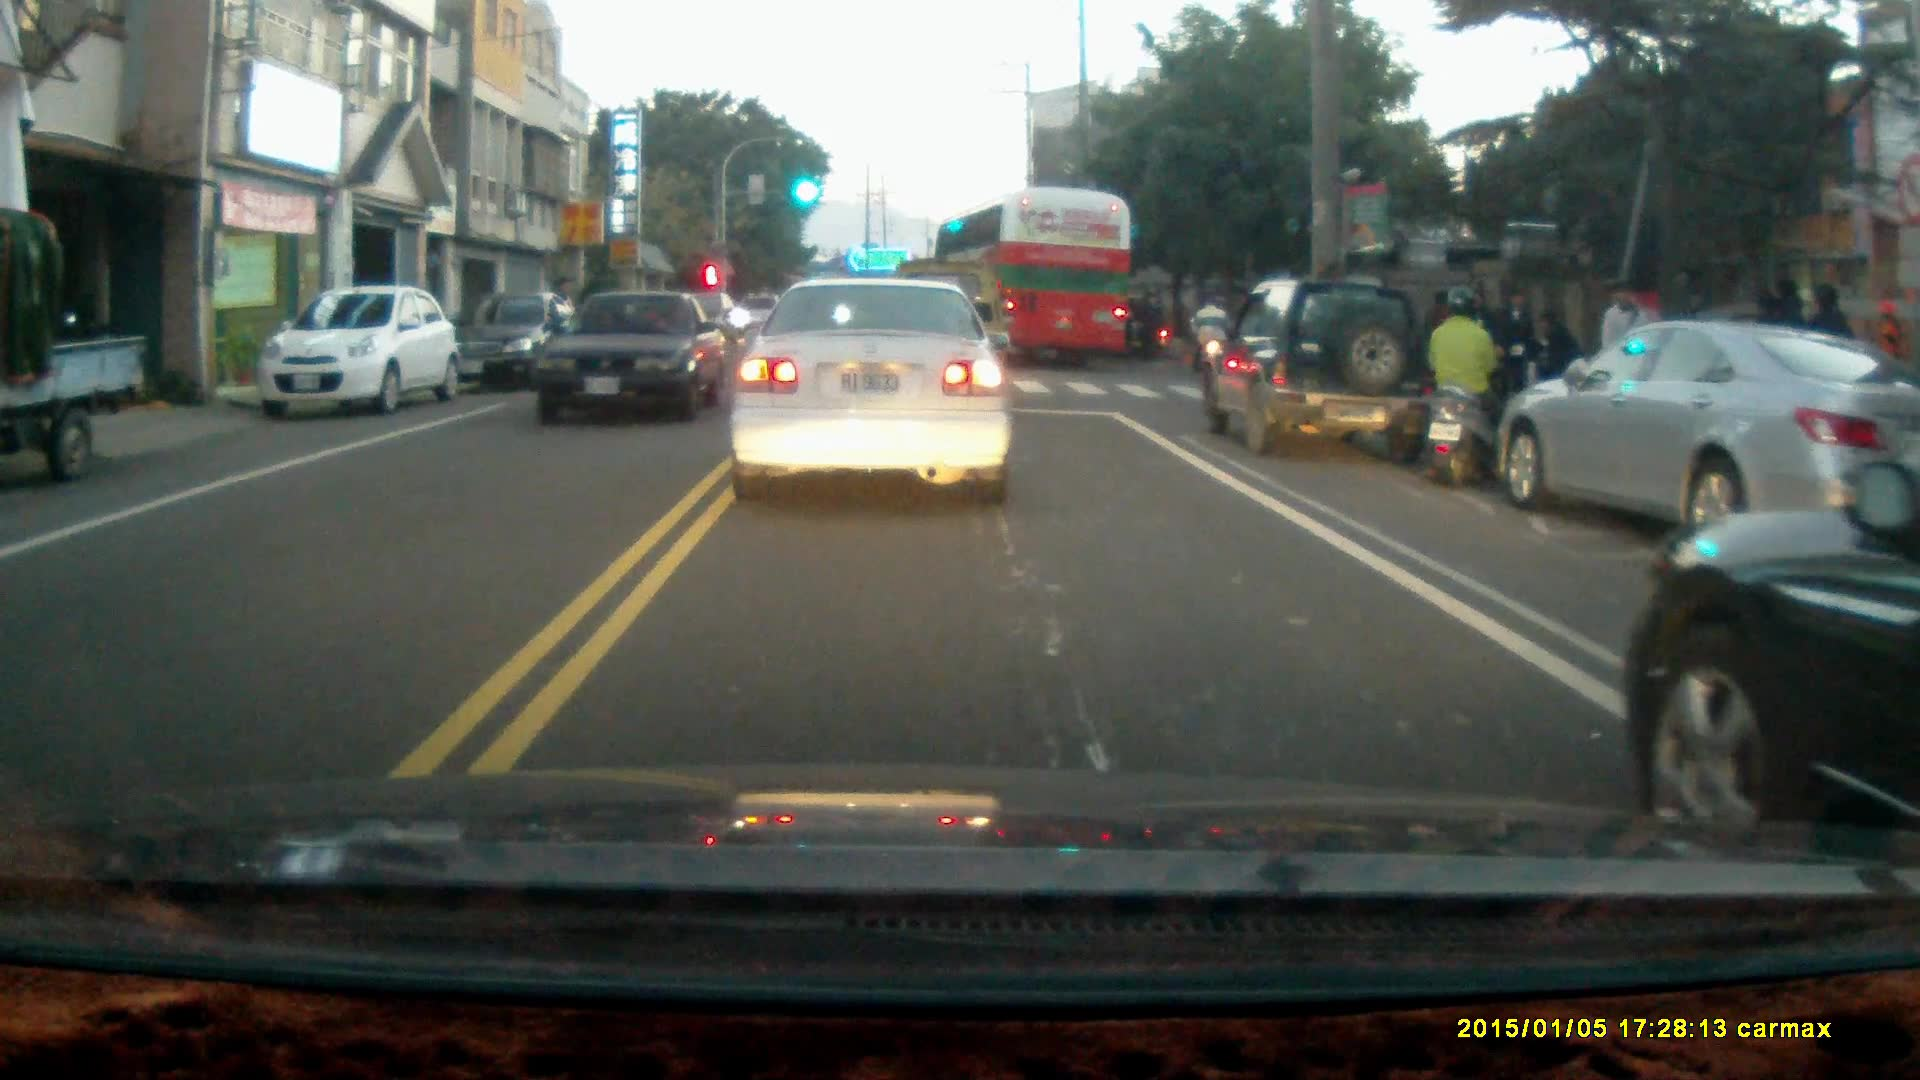pedestrian: (1590, 276, 1655, 415), (1492, 283, 1542, 421)
rider: (1422, 283, 1512, 490), (1113, 293, 1170, 362), (1187, 291, 1228, 374)
vehicle: (1497, 324, 1920, 559), (1640, 477, 1920, 821), (723, 269, 1016, 508), (1200, 275, 1441, 458), (1, 214, 149, 483), (935, 188, 1139, 373), (534, 285, 727, 428), (258, 287, 457, 416), (457, 288, 581, 390)
